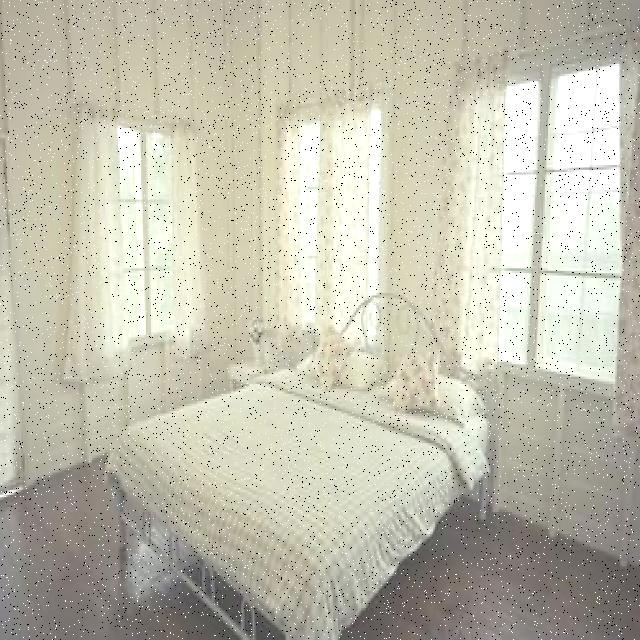bed: (115, 312, 494, 613)
